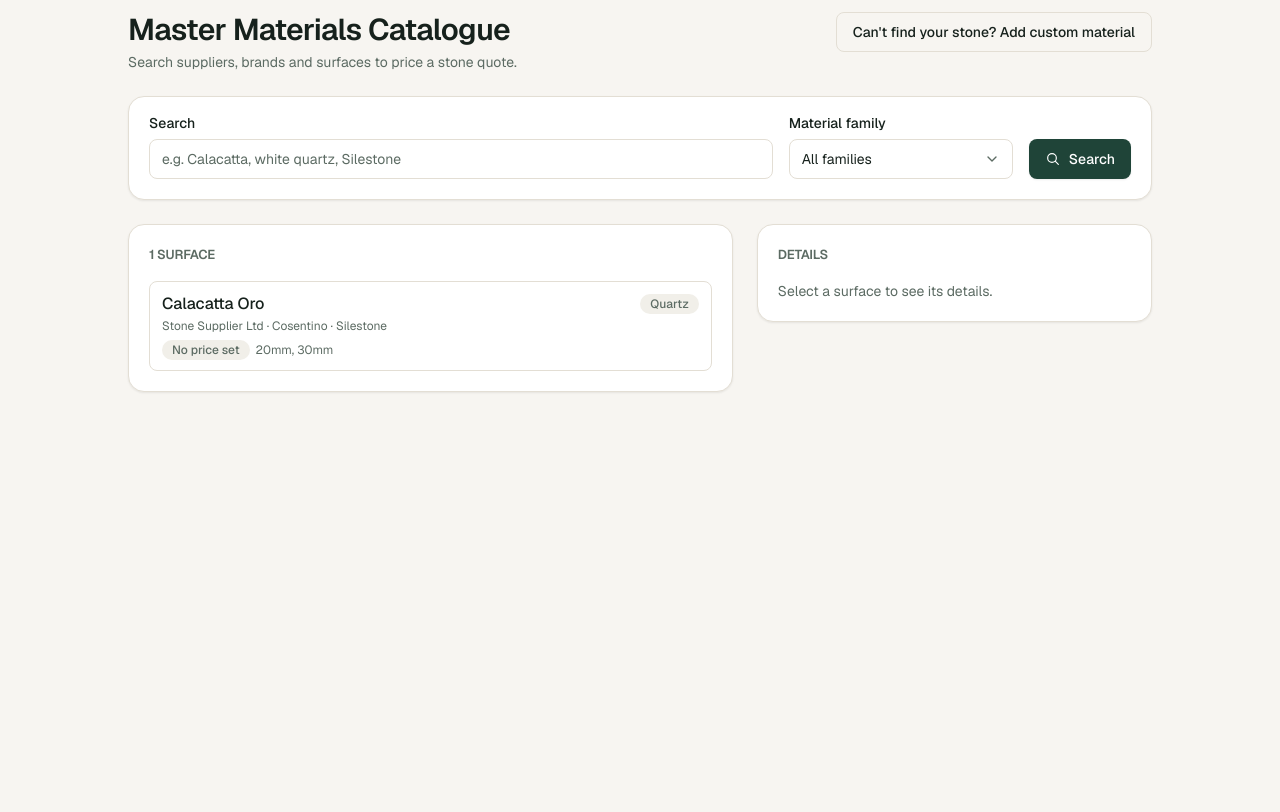
Scenario: CataloguePage — Sprint 042 Plan 03 › shows the resolved price when the tenant has one set
This screenshot has width=1280, height=812.
Click the text "Calacatta Oro": (213, 304) [162,292,264,316]
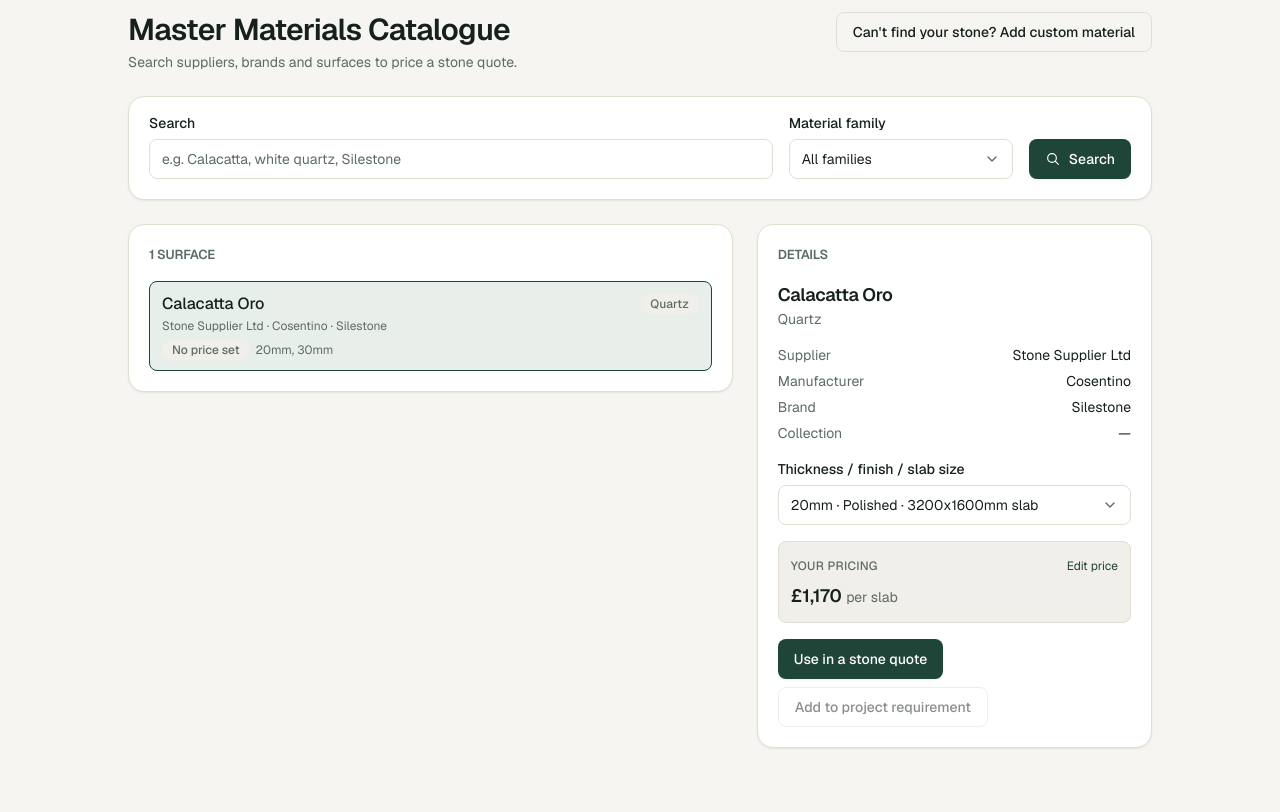
Now the text "£1,170 per slab" is shown, box [791,584,898,606]
